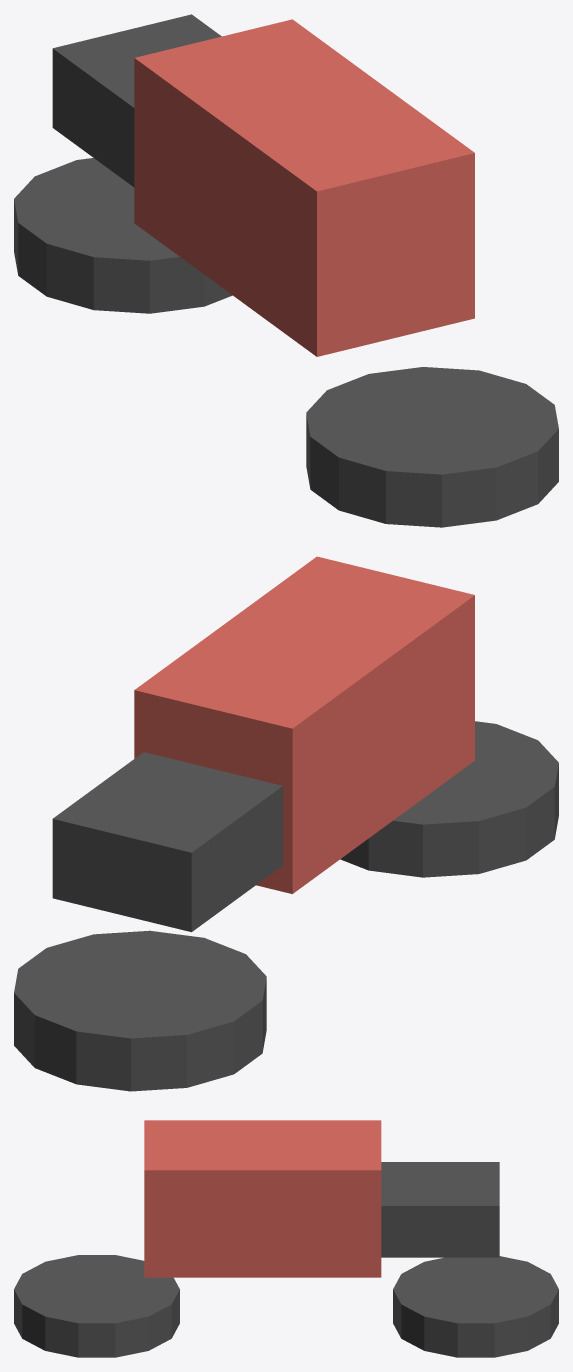
File: motorcycle.glb
3 renders of one model, top to bottom at view 1: azimuth 30°, elevation 25°; view 2: azimuth 150°, elevation 25°; view 3: azimuth 270°, elevation 25°, orthographic. The views are drawn at different scales.
Parts seen in each view (by area): view 1: tank, wheel_f, wheel_r, seat; view 2: tank, wheel_r, seat, wheel_f; view 3: tank, wheel_r, wheel_f, seat.
Part boxes in pixels (left/top/right/bottom): tank: left=134, top=19, right=474, bottom=356; wheel_f: left=306, top=367, right=558, bottom=527; wheel_r: left=14, top=158, right=232, bottom=313; seat: left=52, top=14, right=221, bottom=187; tank: left=134, top=556, right=474, bottom=893; wheel_r: left=14, top=930, right=266, bottom=1091; seat: left=52, top=752, right=282, bottom=932; wheel_f: left=340, top=721, right=558, bottom=877; tank: left=144, top=1120, right=381, bottom=1277; wheel_r: left=393, top=1256, right=558, bottom=1357; wheel_f: left=14, top=1255, right=179, bottom=1357; seat: left=381, top=1162, right=499, bottom=1257.
Size of the model in its own units: 0.6826 by 0.8301 by 2.3.
